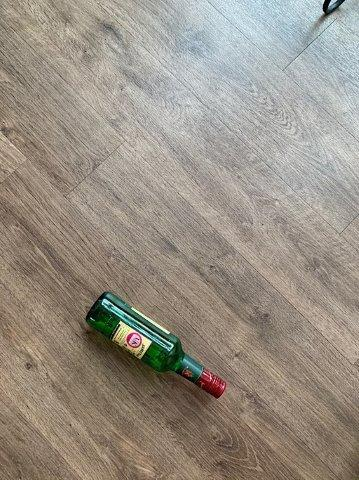botolkaca: (87, 292, 226, 397)
